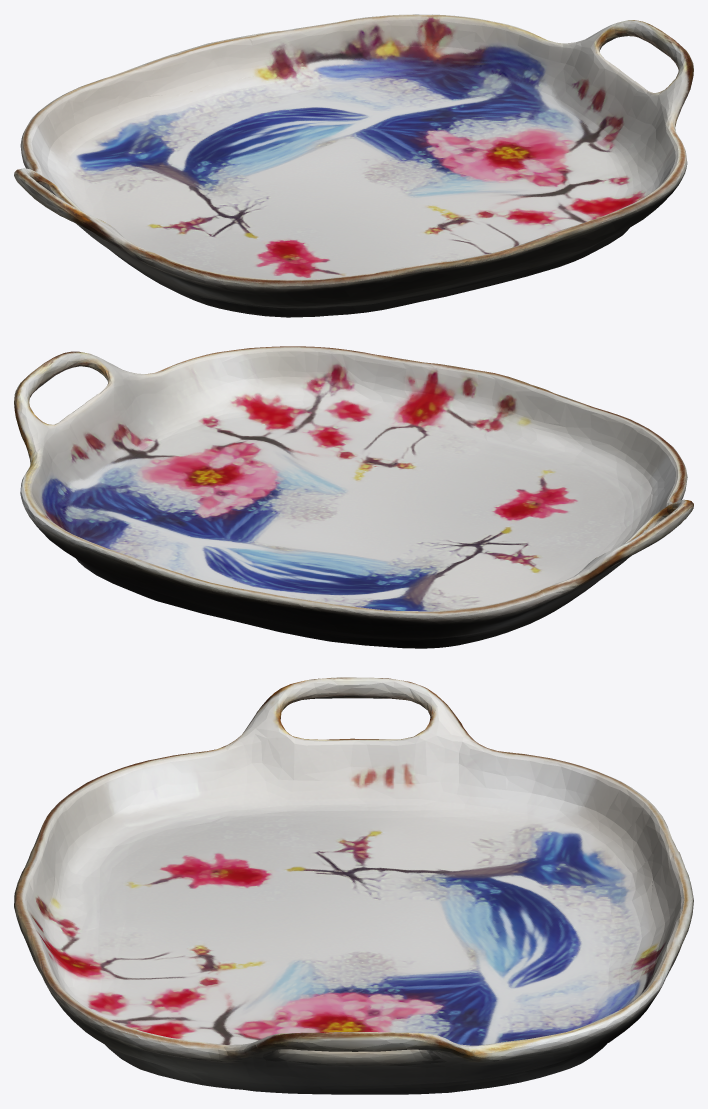
File: porcelain-serving-tray-japanese.jpeg.glb
3 views of the same model, one above another, from view 1: azimuth 30°, elevation 25°; view 2: azimuth 150°, elevation 25°; view 3: azimuth 270°, elevation 25° (orthographic). The views are drawn at different scales.
Parts seen in each view (by area): view 1: world; view 2: world; view 3: world.
Part boxes in pixels (x1,y1,x2,y2): world: [14, 14, 693, 317]; world: [14, 346, 693, 648]; world: [14, 677, 693, 1094].
Bounding box in the file's own units: 1 × 0.1434 × 0.7967.
1 material, 1 textured.
